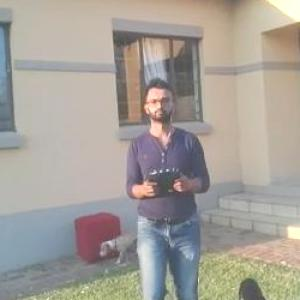follow: (120, 72, 217, 299)
null: (98, 222, 140, 266)
